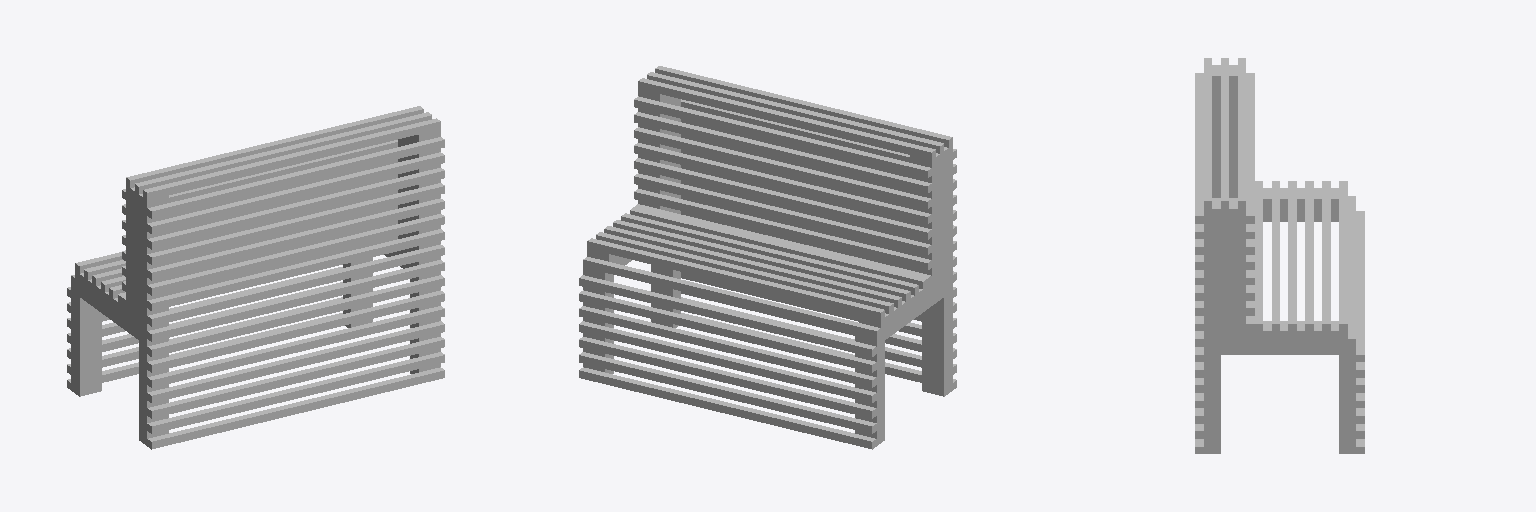
File: bank.obj
3 views of the same model, side by side, from view 1: azimuth 30°, elevation 25°; view 2: azimuth 150°, elevation 25°; view 3: azimuth 270°, elevation 25° (orthographic).
Parts seen in each view (by area): view 1: object 1; view 2: object 1; view 3: object 1.
Boxes of the visible parts, x1,y1,x2,y2 form: object 1: [67, 106, 444, 449]; object 1: [579, 66, 956, 449]; object 1: [1195, 58, 1364, 453].
Size of the model in its own units: 4 by 3.3 by 2.